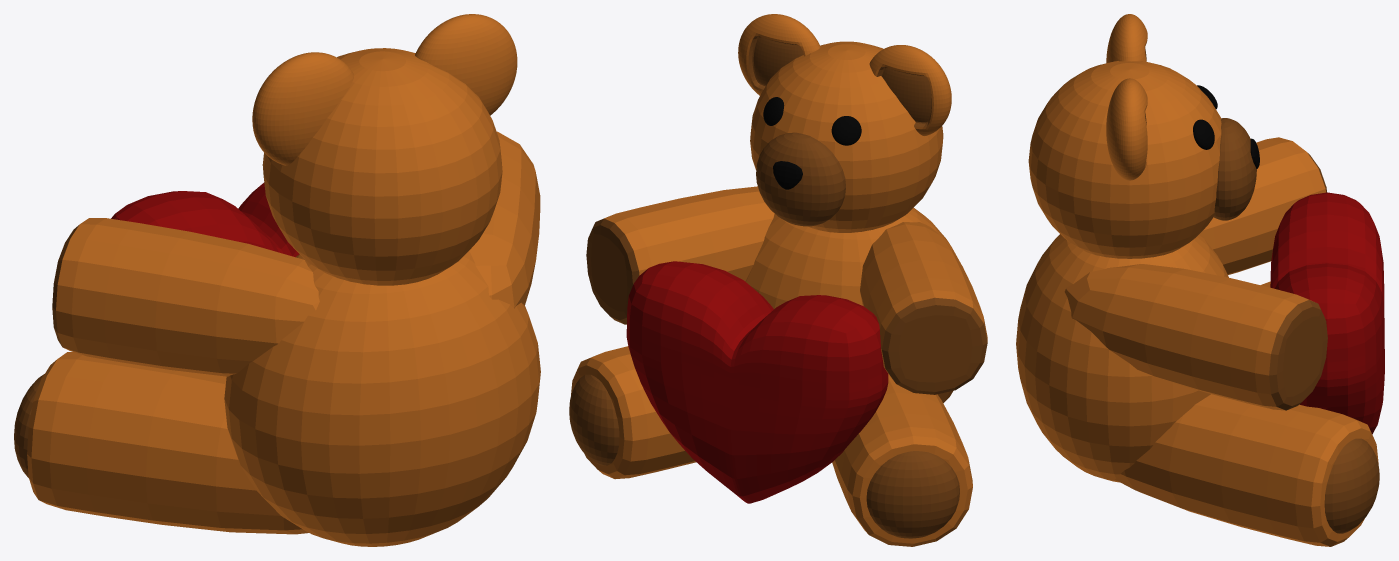
File: TeddyBearFinal.fbx
3 renders of one model, left to right at view 1: azimuth 30°, elevation 25°; view 2: azimuth 150°, elevation 25°; view 3: azimuth 270°, elevation 25°, orthographic. The views are drawn at different scales.
Parts seen in each view (by area): view 1: BearBody; view 2: BearBody; view 3: BearBody.
Boxes of the visible parts, x1,y1,x2,y2 form: BearBody: (14, 14, 540, 546); BearBody: (569, 14, 987, 546); BearBody: (1016, 14, 1384, 546).
Bounding box in the file's own units: 656 × 642 × 506.
